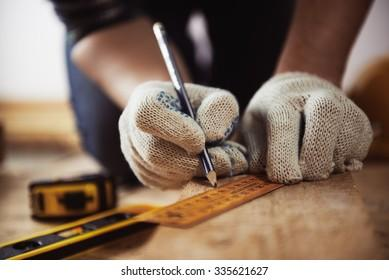gloves: (240, 69, 375, 186), (117, 80, 251, 190)
